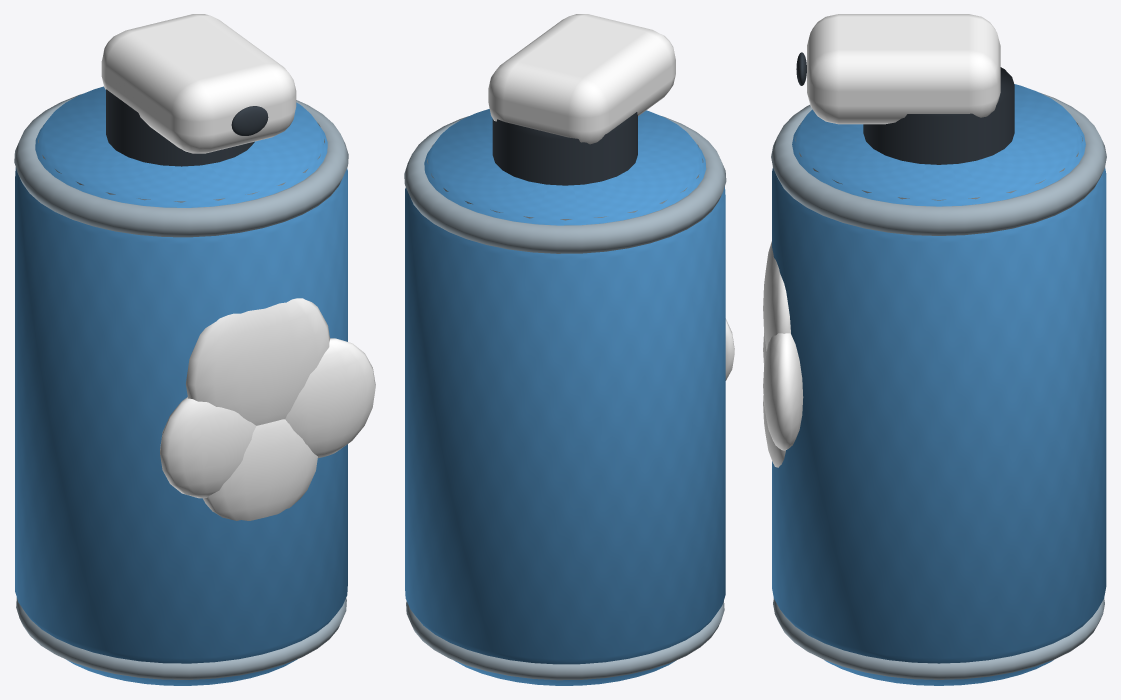
The model's file is FOAM.glb.
3 views of the same model, side by side, from view 1: azimuth 30°, elevation 25°; view 2: azimuth 150°, elevation 25°; view 3: azimuth 270°, elevation 25° (orthographic). The views are drawn at different scales.
Parts seen in each view (by area): view 1: FOAM; view 2: FOAM; view 3: FOAM.
Boxes of the visible parts, x1,y1,x2,y2 form: FOAM: (14,14,375,685); FOAM: (404,14,734,685); FOAM: (763,14,1106,685).
Size of the model in its own units: 0.1909 by 0.3725 by 0.1955.
4 materials, 1 textured.
